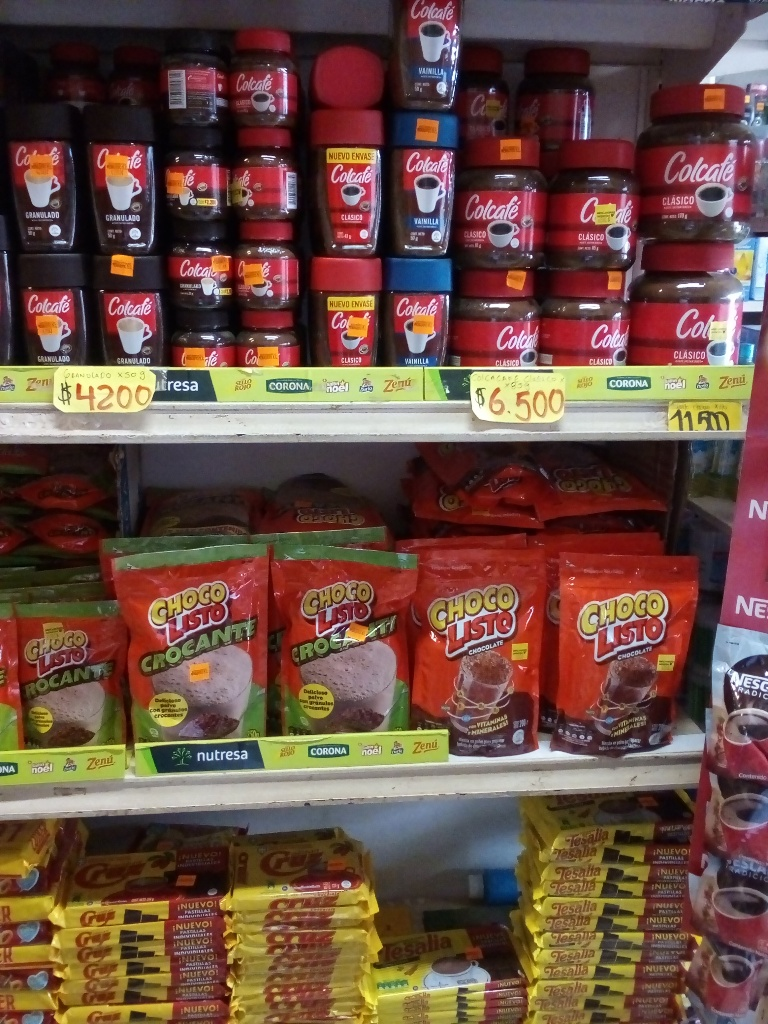COL0170102DYP10000: (5, 577, 112, 747)
COL0170102DYP25000: (116, 548, 274, 739)
COL0170103DYP20000: (418, 540, 552, 761)
